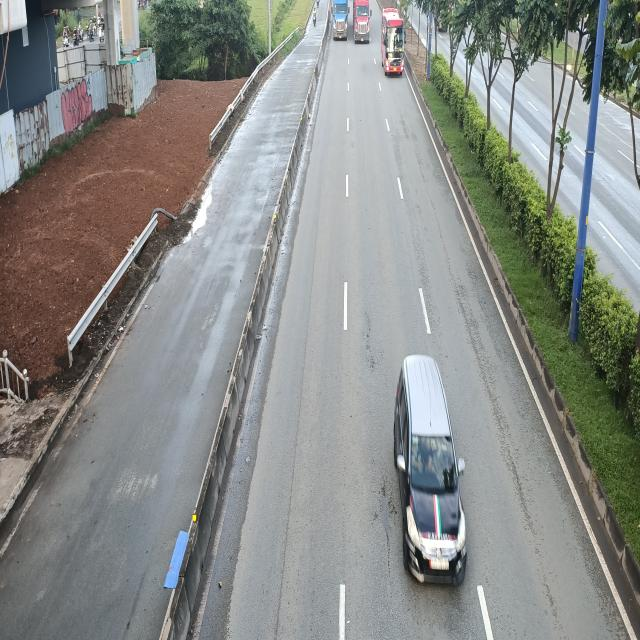car: (392, 356, 468, 588)
coach: (380, 8, 407, 77)
container: (352, 0, 372, 44), (332, 0, 351, 41)
